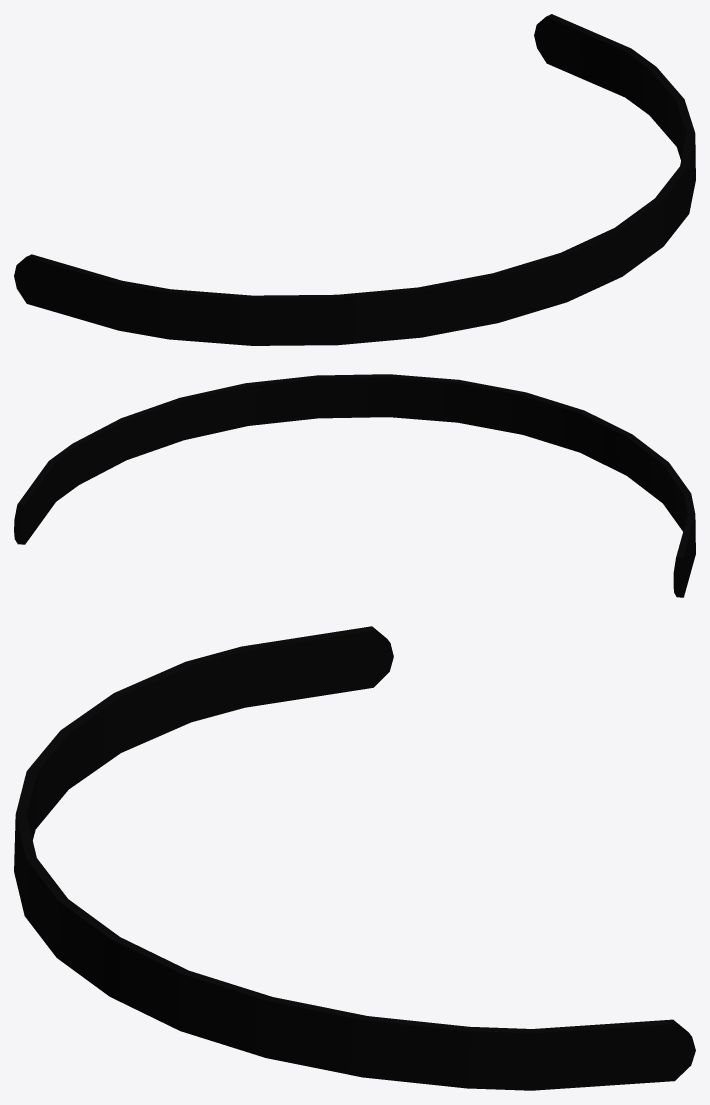
3 renders of one model, top to bottom at view 1: azimuth 30°, elevation 25°; view 2: azimuth 150°, elevation 25°; view 3: azimuth 270°, elevation 25°, orthographic. The views are drawn at different scales.
Parts seen in each view (by area): view 1: Joint_0_Object_0; view 2: Joint_0_Object_0; view 3: Joint_0_Object_0.
Part boxes in pixels (left/top/right/bottom): Joint_0_Object_0: left=14, top=14, right=695, bottom=345; Joint_0_Object_0: left=14, top=374, right=695, bottom=597; Joint_0_Object_0: left=14, top=626, right=695, bottom=1090.
Bounding box in the file's own units: 318 × 26.59 × 226.
Materials: 1 (1 with a texture image).
